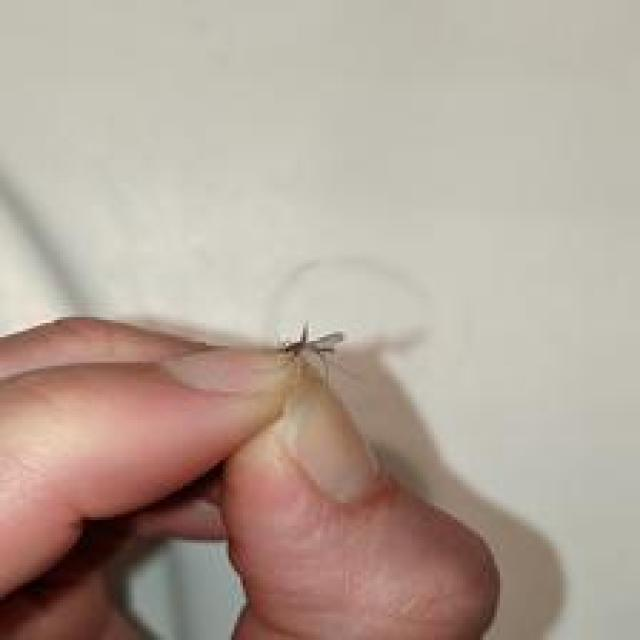Culex: (274, 319, 346, 387)
